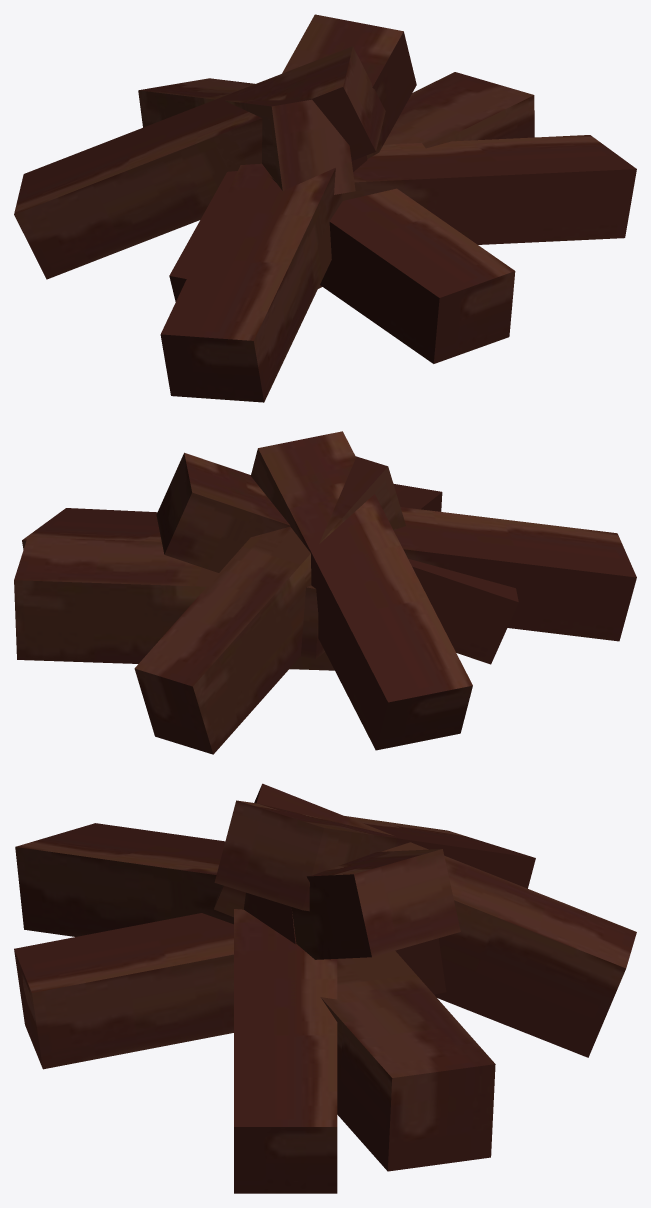
The model's file is SM_PROP_firepit_woodpile.glb.
3 views of the same model, one above another, from view 1: azimuth 30°, elevation 25°; view 2: azimuth 150°, elevation 25°; view 3: azimuth 270°, elevation 25° (orthographic). The views are drawn at different scales.
Parts seen in each view (by area): view 1: SM_PROP_firepit_woodpile_EXPORT; view 2: SM_PROP_firepit_woodpile_EXPORT; view 3: SM_PROP_firepit_woodpile_EXPORT.
Boxes of the visible parts, <box> form: SM_PROP_firepit_woodpile_EXPORT: <box>14,14,636,402</box>; SM_PROP_firepit_woodpile_EXPORT: <box>14,431,636,754</box>; SM_PROP_firepit_woodpile_EXPORT: <box>14,783,636,1193</box>.
Bounding box in the file's own units: 0.7321 × 0.2843 × 0.6638.
1 material, 1 textured.
